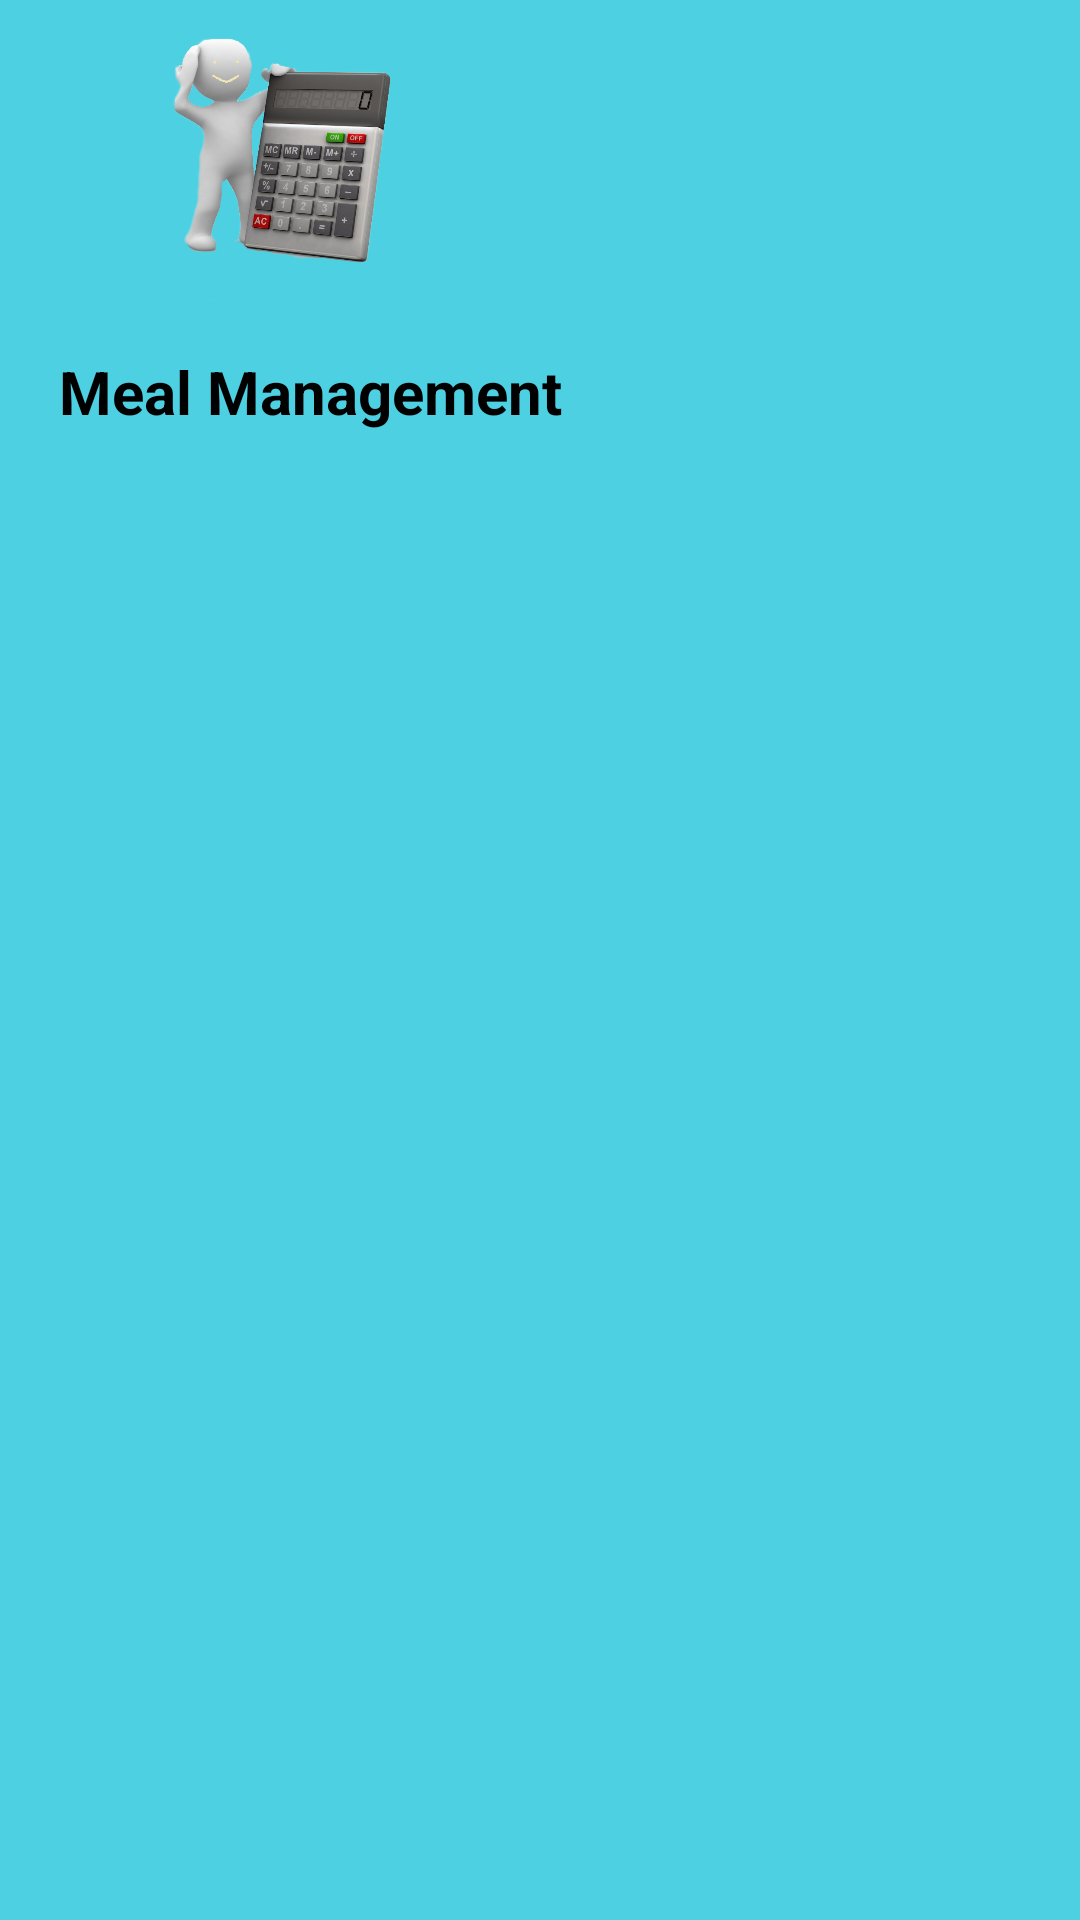

Where to tap for icons on this 1080px×1920px app screen, as [x,y]:
calculator: [281,150]
